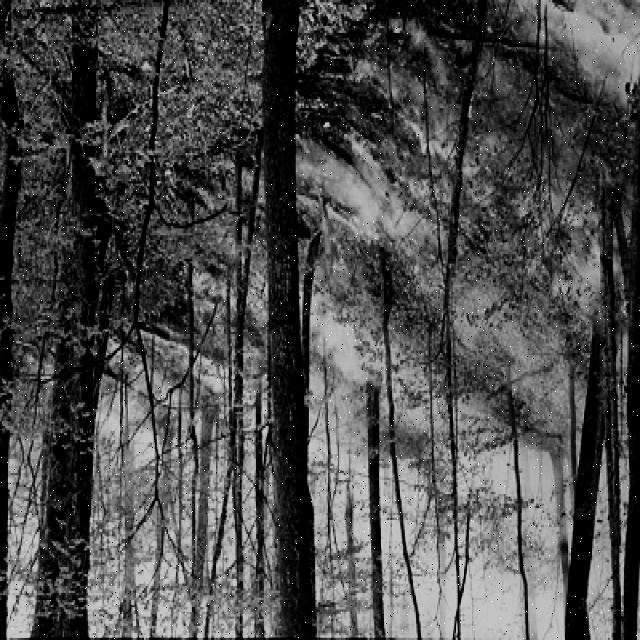api: (408, 168, 454, 258), (327, 208, 380, 262), (508, 249, 548, 284)
asap: (507, 1, 635, 121), (375, 26, 452, 148), (476, 47, 524, 207), (549, 122, 591, 278), (298, 133, 375, 211), (313, 293, 370, 387)
